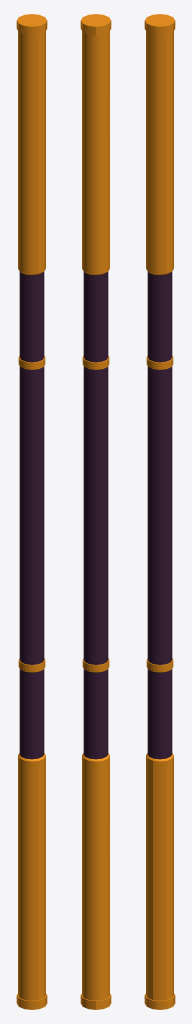
Rendered from Monkey Staff.FBX.
3 views of the same model, side by side, from view 1: azimuth 90°, elevation 25°; view 2: azimuth 150°, elevation 25°; view 3: azimuth 330°, elevation 25° (orthographic).
Parts seen in each view (by area): view 1: Monkey Staff; view 2: Monkey Staff; view 3: Monkey Staff.
Part boxes in pixels (x1=…): Monkey Staff: x1=16, y1=14, x2=47, y2=1009; Monkey Staff: x1=80, y1=14, x2=111, y2=1009; Monkey Staff: x1=144, y1=14, x2=175, y2=1009.
Size of the model in its own units: 3.66 by 131 by 3.66.
